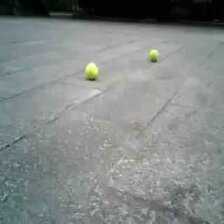tennis: (85, 62, 98, 79), (149, 48, 159, 60)
